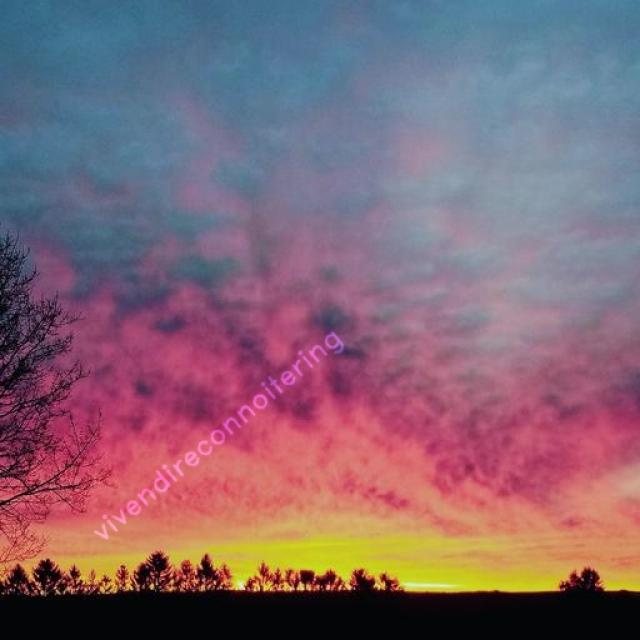watermark: (94, 316, 343, 548)
